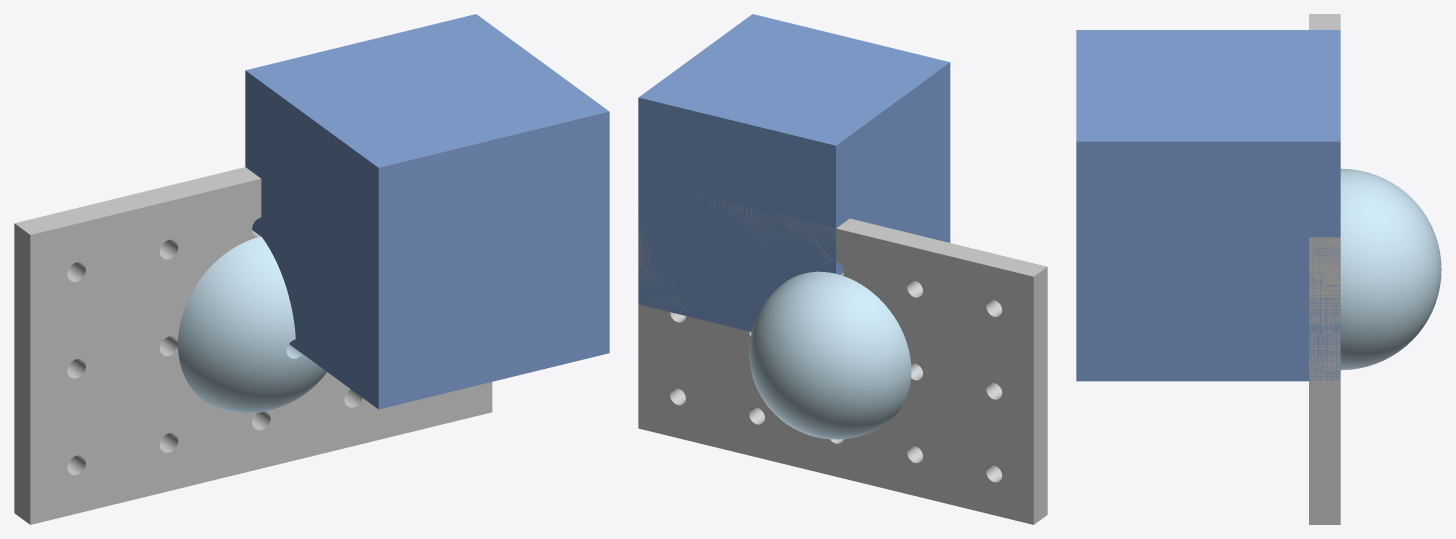
The picture shows the model from 3 angles, left to right: view 1: azimuth 30°, elevation 25°; view 2: azimuth 150°, elevation 25°; view 3: azimuth 270°, elevation 25°; orthographic projection. The views are drawn at different scales.
Parts seen in each view (by area): view 1: Part 3, Part 2, Part 1; view 2: Part 3, Part 2, Part 1; view 3: Part 3, Part 1, Part 2.
Part boxes in pixels (x1=…): Part 3: x1=245, y1=14, x2=609, y2=409; Part 2: x1=14, y1=167, x2=492, y2=524; Part 1: x1=161, y1=236, x2=326, y2=413; Part 3: x1=638, y1=14, x2=950, y2=331; Part 2: x1=638, y1=194, x2=1047, y2=524; Part 1: x1=749, y1=271, x2=919, y2=439; Part 3: x1=1076, y1=30, x2=1340, y2=381; Part 1: x1=1340, y1=168, x2=1441, y2=370; Part 2: x1=1309, y1=14, x2=1340, y2=524.
Bounding box in the file's own units: 0.2 × 0.16 × 0.1381.
